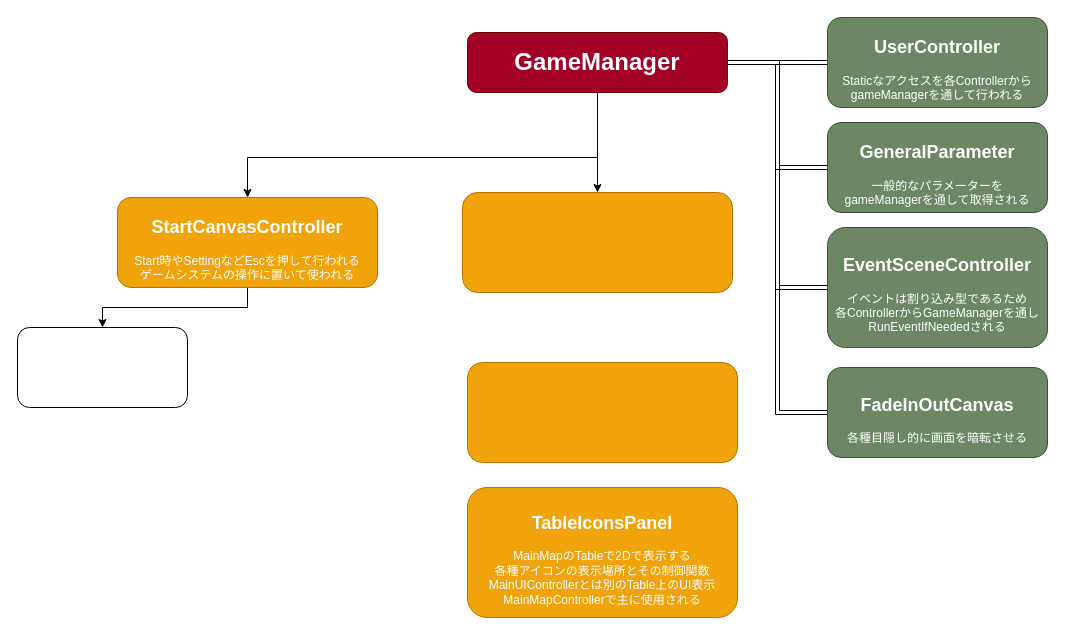
The diagram is 1065 pixels wide and 635 high, and some of its shapes have lost their labels. The box of each missing label's shape, as (x1, y1, x2, y2) in pixels:
DataPanel OSAを内包しデータのUI操作を行う: (16, 326, 188, 408)
MainMapScene GameManagerから指示されて MainMapControllerを読み込んだりする Tactics時はほぼ動かない: (462, 192, 732, 292)
MainUIController MainMapでのUIを統括する: (466, 362, 738, 462)
